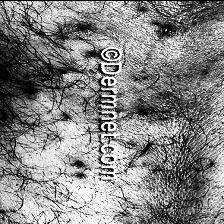Toxin: (53, 21, 99, 78), (150, 20, 176, 40), (133, 106, 153, 120)
